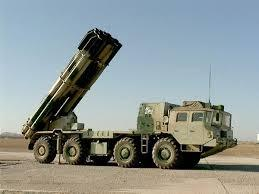MIL_SAM_TEL: (23, 27, 234, 169)
